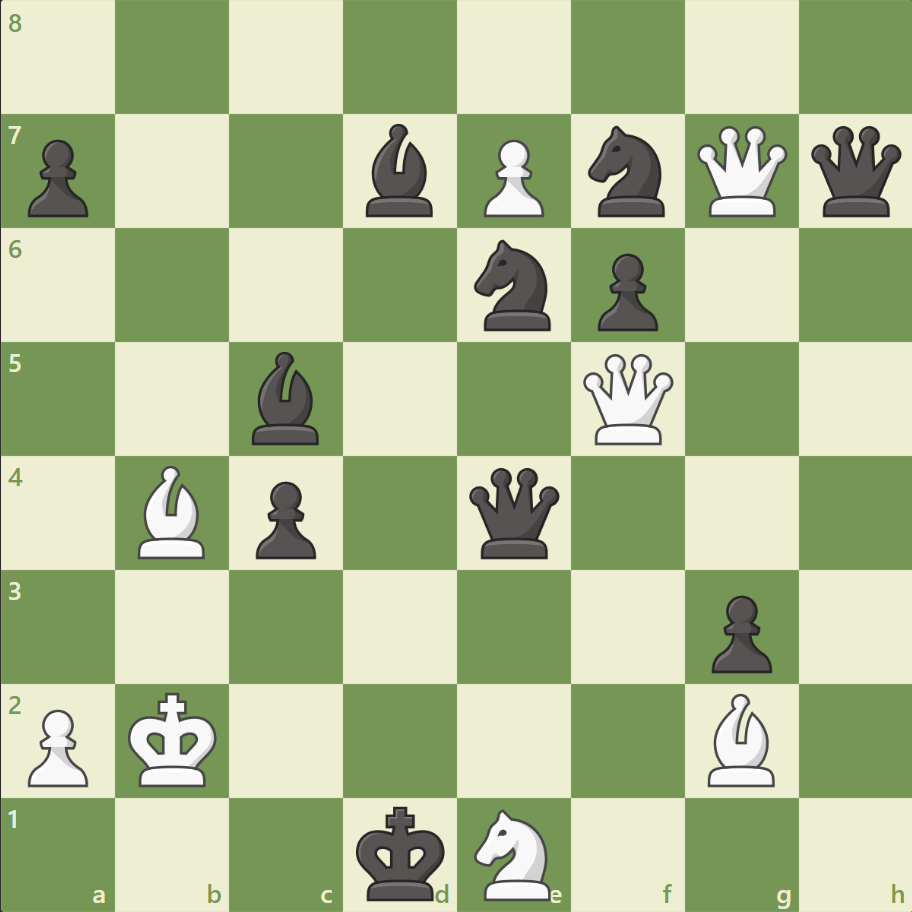B: (131, 460, 215, 563), (698, 687, 782, 790)
K: (124, 685, 224, 793)
N: (465, 802, 562, 904)
P: (474, 132, 549, 223), (20, 700, 95, 791)
Q: (691, 122, 790, 222), (578, 349, 677, 449)
b: (358, 120, 442, 222), (244, 347, 328, 449)
k: (351, 798, 451, 906)
n: (465, 234, 562, 337), (579, 121, 676, 223)
p: (20, 132, 95, 223), (247, 473, 322, 564), (701, 586, 776, 677), (588, 246, 662, 337)
q: (805, 122, 904, 222), (464, 463, 563, 562)
